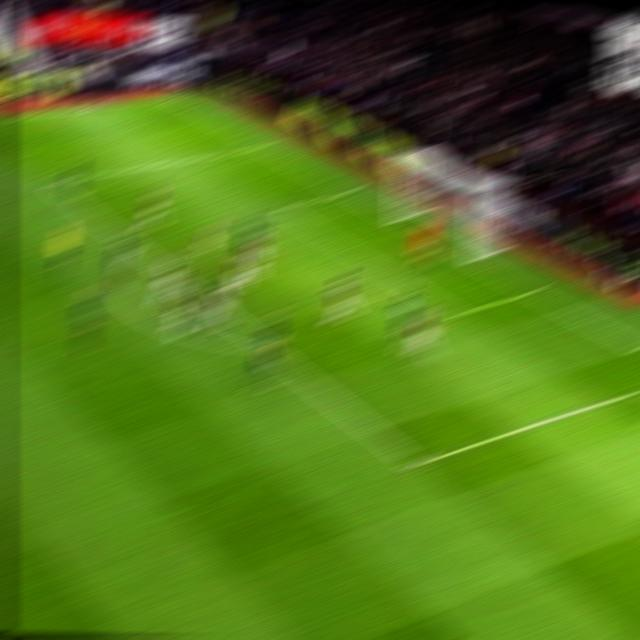bigarea_bottom_inner: (400, 450, 431, 475)
bigarea_top_inner: (36, 173, 61, 190)
bigarea_top_outter: (250, 138, 274, 151)
corner: (158, 90, 187, 102)
smallarea_bottom_inner: (440, 298, 470, 324)
smallarea_bottom_outter: (518, 282, 543, 299)
smallarea_top_inner: (265, 197, 292, 215)
smallarea_top_outter: (333, 183, 358, 200)
top_arc_area_intersection: (122, 238, 147, 254)
